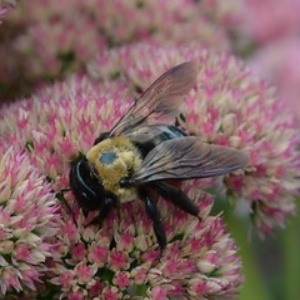bee: (65, 59, 252, 267)
